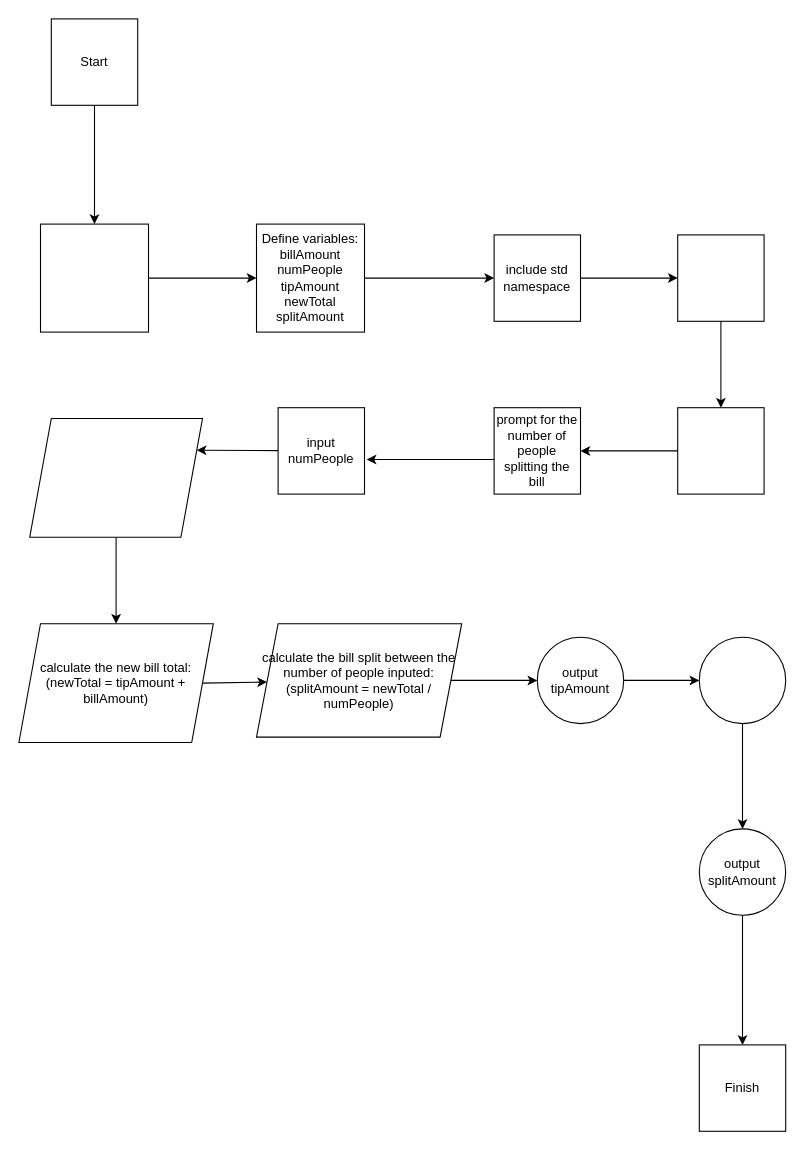
Image size: 805x1150. Some labels were removed from this diagram. The shapes that lost their labels are listed below. From the top down, each one's centre as x and y in pixels, then its label:
At (93,277): "Define libraries: iostream and iomanip".
At (720,277): "prompt for the price of the bill".
At (720,450): "input billAmount".
At (115,477): "calculate the new tip amount: (tipAmount=billAmount *0.22)".
At (742,680): "output newTotal".
